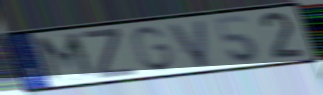2: (260, 10, 308, 61)
5: (211, 12, 262, 65)
G: (129, 24, 177, 73)
M: (33, 31, 101, 86)
V: (165, 17, 212, 69)
Z: (80, 27, 140, 81)
